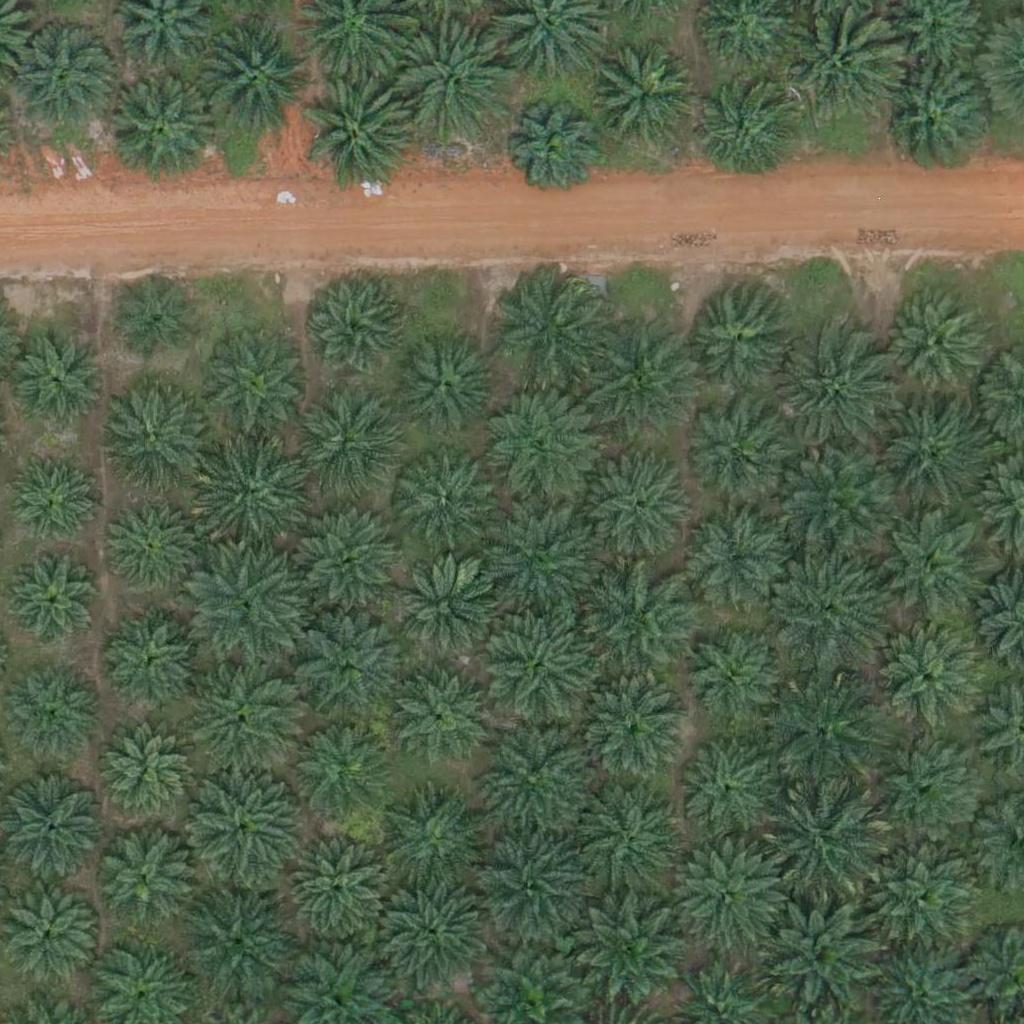Kelapa_Sawit: (879, 511, 992, 625), (766, 904, 879, 1018), (572, 672, 685, 786), (395, 28, 508, 142), (108, 69, 221, 183), (195, 21, 308, 135), (859, 843, 972, 956), (870, 400, 983, 513), (784, 446, 897, 559), (764, 550, 877, 663), (682, 393, 795, 506), (575, 329, 688, 442), (576, 450, 689, 563), (569, 790, 682, 903), (489, 278, 602, 391), (482, 395, 595, 508), (486, 610, 599, 723), (479, 712, 592, 825), (374, 794, 487, 907), (189, 555, 302, 668), (184, 662, 297, 775), (189, 766, 302, 879), (177, 892, 290, 1005), (90, 382, 203, 495), (877, 619, 989, 733), (680, 283, 792, 397), (572, 897, 684, 1011), (477, 821, 589, 935), (195, 327, 307, 441), (870, 731, 982, 844), (778, 334, 890, 447), (771, 674, 883, 787), (772, 787, 884, 900), (673, 840, 785, 953), (591, 562, 703, 675), (484, 506, 596, 619), (395, 557, 507, 670), (380, 870, 492, 983), (294, 606, 406, 719), (194, 442, 306, 555), (877, 62, 989, 175), (782, 10, 894, 123), (589, 46, 701, 159), (304, 79, 416, 192), (880, 294, 980, 395), (675, 732, 775, 833), (688, 516, 788, 617), (398, 330, 498, 431), (397, 459, 497, 560), (390, 668, 490, 769), (289, 720, 389, 821), (299, 507, 399, 608), (95, 822, 195, 923), (95, 717, 195, 818), (104, 612, 204, 713), (5, 549, 105, 650), (694, 84, 794, 185), (14, 22, 114, 123), (682, 631, 782, 731), (289, 839, 389, 939), (292, 394, 392, 494), (303, 277, 403, 377), (1, 447, 101, 547), (8, 323, 108, 423), (112, 273, 200, 361), (105, 501, 193, 589), (507, 108, 594, 196)
